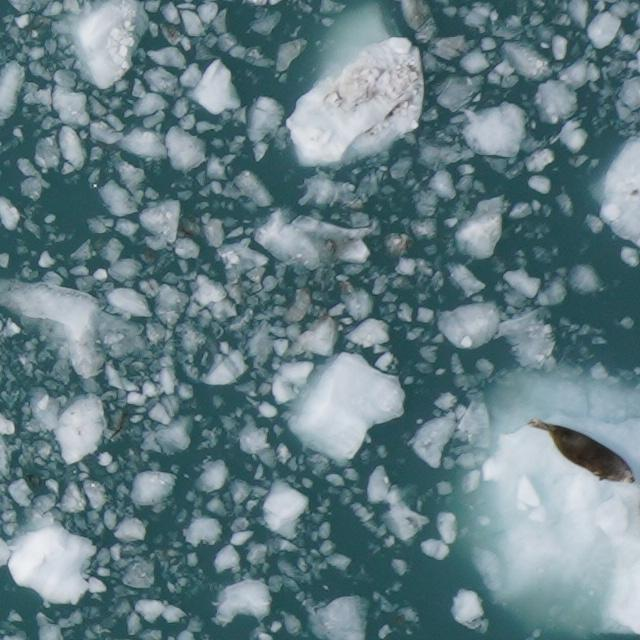seal: (527, 417, 635, 483)
